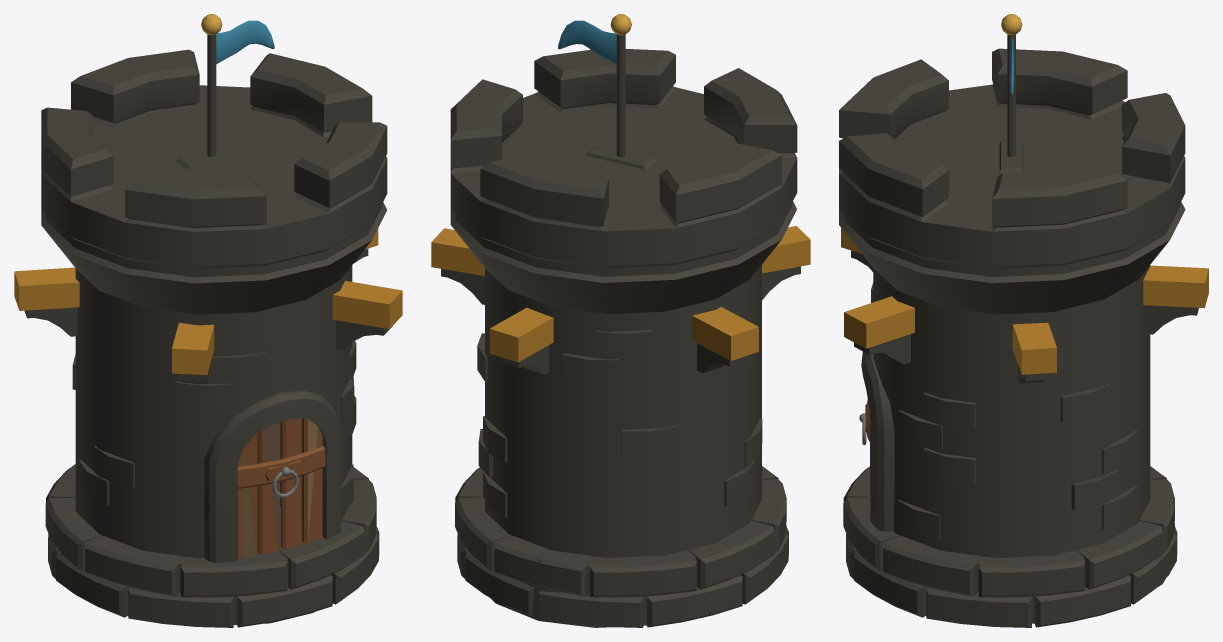
The model's file is tower.glb.
3 renders of one model, left to right at view 1: azimuth 30°, elevation 25°; view 2: azimuth 150°, elevation 25°; view 3: azimuth 270°, elevation 25°, orthographic.
Visible parts, largest first — view 1: Tower, Tower_Door; view 2: Tower; view 3: Tower.
Part boxes in pixels (bbox=[...]): Tower: bbox=[14, 14, 402, 627]; Tower_Door: bbox=[237, 418, 325, 558]; Tower: bbox=[431, 14, 810, 627]; Tower: bbox=[839, 14, 1208, 627].
Bounding box in the file's own units: 9.44 × 14.6 × 8.98.
Materials: 1 (1 with a texture image).
